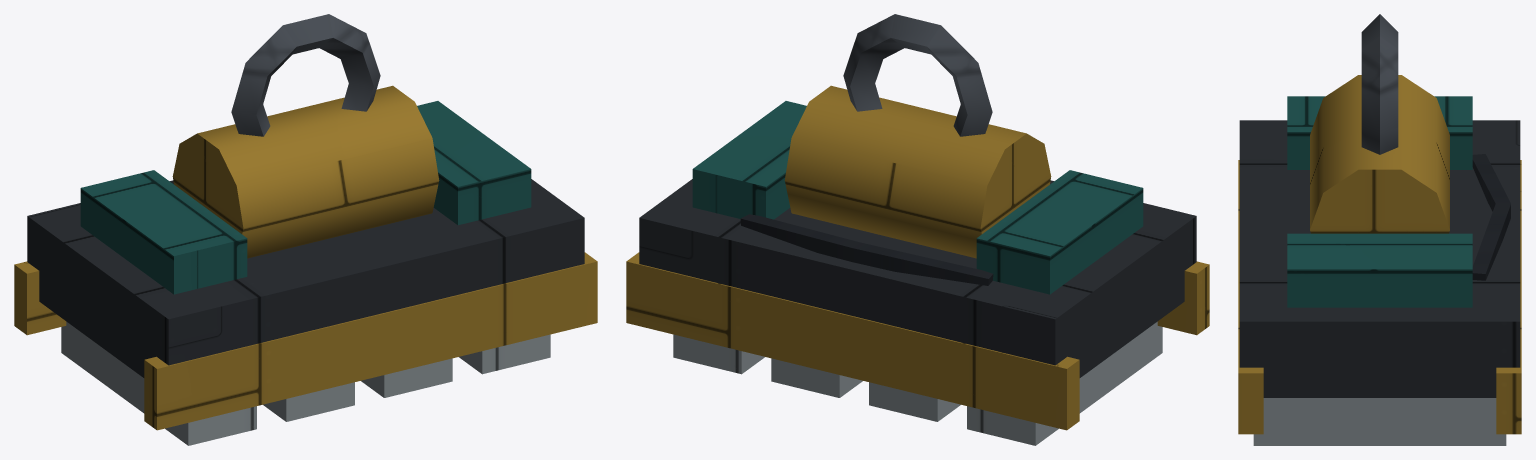
Rendered from cargo-magnetic-handling-shoe_lod2.glb.
3 views of the same model, side by side, from view 1: azimuth 30°, elevation 25°; view 2: azimuth 150°, elevation 25°; view 3: azimuth 270°, elevation 25° (orthographic).
Parts seen in each view (by area): view 1: LOD2_Livery, LOD2_Armor, LOD2_Hull, LOD2_BrushedMetal, LOD2_Mechanical; view 2: LOD2_Livery, LOD2_Armor, LOD2_Hull, LOD2_BrushedMetal, LOD2_Mechanical, LOD2_MechanicalDark; view 3: LOD2_Armor, LOD2_Livery, LOD2_Hull, LOD2_BrushedMetal, LOD2_Mechanical, LOD2_MechanicalDark.
Part boxes in pixels (x1,y1,x2,y2): LOD2_Livery: [14, 85, 597, 430]; LOD2_Armor: [27, 179, 584, 377]; LOD2_Hull: [80, 101, 531, 294]; LOD2_BrushedMetal: [61, 321, 550, 445]; LOD2_Mechanical: [231, 14, 380, 136]; LOD2_Livery: [626, 85, 1209, 430]; LOD2_Armor: [639, 179, 1196, 377]; LOD2_Hull: [692, 101, 1143, 294]; LOD2_BrushedMetal: [673, 321, 1162, 445]; LOD2_Mechanical: [843, 14, 992, 136]; LOD2_MechanicalDark: [740, 214, 993, 285]; LOD2_Armor: [1239, 120, 1520, 397]; LOD2_Livery: [1238, 75, 1521, 434]; LOD2_Hull: [1287, 96, 1472, 307]; LOD2_BrushedMetal: [1253, 398, 1506, 445]; LOD2_Mechanical: [1361, 14, 1398, 154]; LOD2_MechanicalDark: [1472, 154, 1510, 280].
Size of the model in its own units: 1.8 by 1.31 by 1.01.
6 materials, 6 textured.
